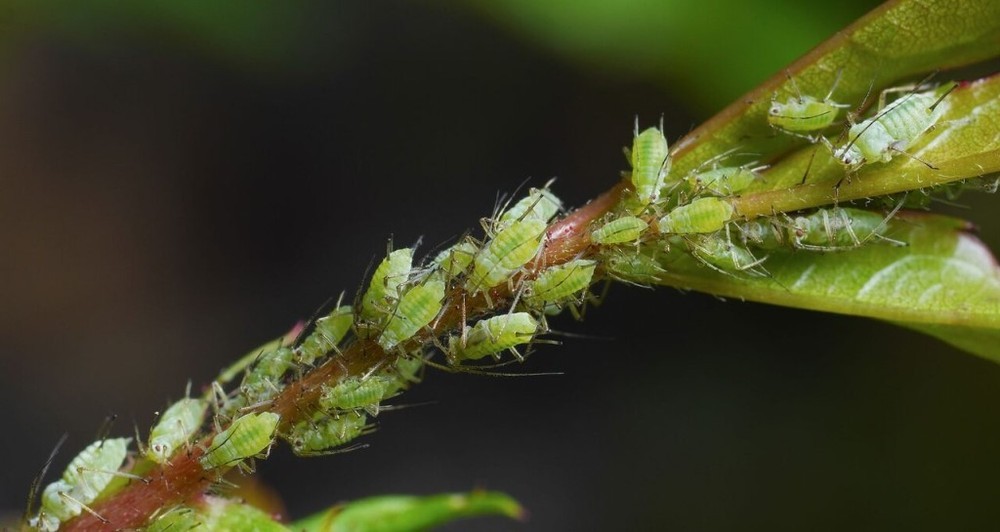Pulgon: (837, 77, 976, 174), (13, 423, 135, 522), (783, 192, 913, 261), (442, 306, 566, 371), (342, 231, 434, 318), (126, 380, 214, 465), (613, 111, 687, 211), (458, 217, 561, 284), (756, 67, 840, 148), (191, 408, 284, 476), (286, 303, 369, 373), (518, 249, 604, 314), (311, 369, 421, 417), (369, 278, 449, 341), (685, 228, 770, 283), (686, 143, 767, 199), (223, 343, 297, 402), (282, 415, 383, 458), (656, 186, 742, 233), (601, 246, 676, 294), (582, 210, 658, 248)
